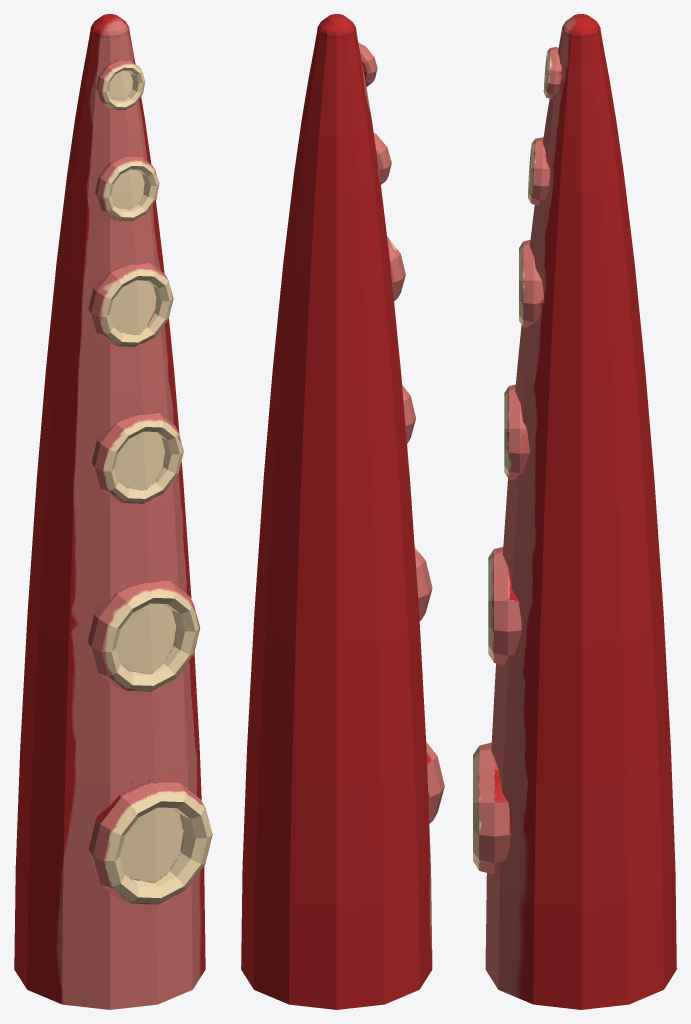
Rendered from yameter.glb.
3 renders of one model, left to right at view 1: azimuth 30°, elevation 25°; view 2: azimuth 150°, elevation 25°; view 3: azimuth 270°, elevation 25°, orthographic.
Visible parts, largest first — view 1: Torus.003; view 2: Torus.003; view 3: Torus.003.
Boxes of the visible parts, x1=… form: Torus.003: x1=14, y1=14, x2=212, y2=1009; Torus.003: x1=241, y1=14, x2=444, y2=1009; Torus.003: x1=473, y1=14, x2=676, y2=1009.
Bounding box in the file's own units: 2 × 10.99 × 2.13.
Materials: 1 (1 with a texture image).
